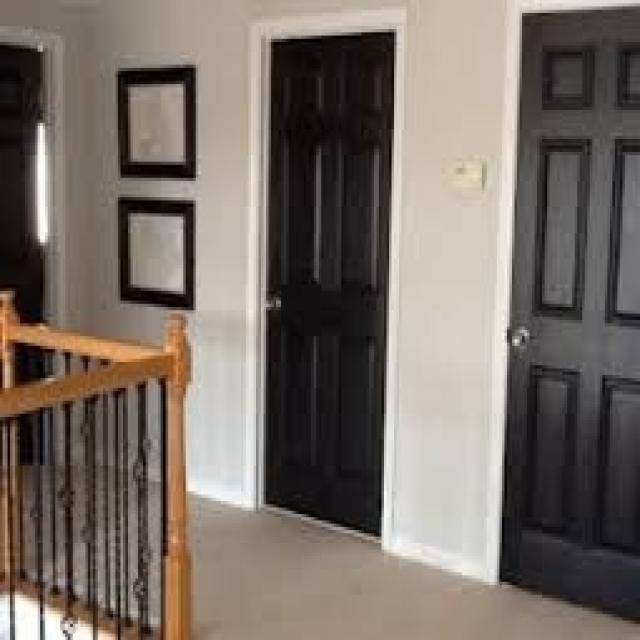Door: (512, 19, 635, 598), (266, 45, 374, 537)
